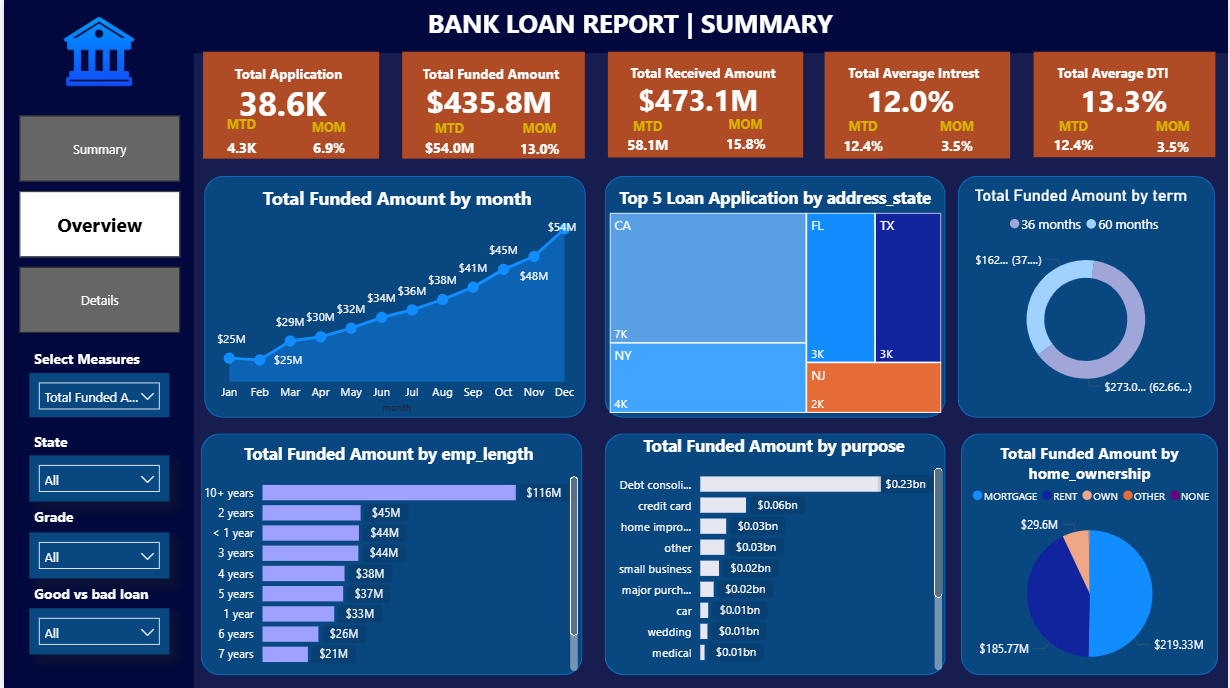

The dashboard page shown, as its layout file describes it:
{"tool":"powerbi","page":{"name":"Overview","canvas":[1280,720],"ordinal":1},"visuals":[{"type":"shape","box":[0,0,1279.8,55.3],"z":0},{"type":"textbox","box":[1095.1,61.1,174.8,29.7],"z":0,"group":"g4"},{"type":"textbox","box":[877,61.2,165.9,29.7],"z":0,"group":"g5"},{"type":"textbox","box":[432.2,61.6,173.1,29.7],"z":0,"group":"g6"},{"type":"textbox","box":[210.9,62,174.3,35.4],"z":0,"group":"g7"},{"type":"textbox","box":[649.2,62,175.7,29.8],"z":0,"group":"g8"},{"type":"shape","box":[0,55.3,198,664.7],"z":1000},{"type":"card","title":"MTD","fields":{"Values":["bank_loan.MTD loan applications"]},"box":[222.3,120.1,52.4,58.1],"z":1000,"group":"g7"},{"type":"card","title":"MTD","fields":{"Values":["bank_loan.MTD avg intrest rate"]},"box":[1086.1,121.9,62.4,49.6],"z":1000,"group":"g4"},{"type":"card","title":"MTD","fields":{"Values":["bank_loan.MTD avg intrest rate"]},"box":[868.1,122,59.5,51],"z":1000,"group":"g5"},{"type":"card","title":"MTD","fields":{"Values":["bank_loan.MTD received amount"]},"box":[641,122.9,62.4,49.6],"z":1000,"group":"g8"},{"type":"card","title":"MTD","fields":{"Values":["bank_loan.MTD funded amount"]},"box":[426.9,123.2,78,51],"z":1000,"group":"g6"},{"type":"group","id":"g1","title":"Group 2","box":[208.3,53.9,184.3,124.4],"z":2000},{"type":"card","title":"MOM","fields":{"Values":["bank_loan.MOM Received Amount"]},"box":[741.6,121.5,66.6,49.6],"z":2000,"group":"g8"},{"type":"card","title":"MOM","fields":{"Values":["bank_loan.MOM AVG Intrest"]},"box":[1190.8,121.9,60.9,52.4],"z":2000,"group":"g4"},{"type":"card","title":"MOM","fields":{"Values":["bank_loan.MOM AVG Intrest"]},"box":[967.3,122,58.1,51],"z":2000,"group":"g5"},{"type":"card","title":"MOM","fields":{"Values":["bank_loan.MOM loan application"]},"box":[314.4,122.9,51,52.4],"z":2000,"group":"g7"},{"type":"card","title":"MOM","fields":{"Values":["bank_loan.MOM Funded Amount"]},"box":[524.9,123.2,70.9,53.9],"z":2000,"group":"g6"},{"type":"shape","box":[208.3,53.9,184.3,112],"z":3000,"group":"g1"},{"type":"shape","box":[416,53.9,191.3,112],"z":3000,"group":"g2"},{"type":"shape","box":[858.2,53.9,194.2,112],"z":3000,"group":"g9"},{"type":"shape","box":[630.7,54.6,204.1,110.6],"z":3000,"group":"g3"},{"type":"shape","box":[1075.7,54.6,190.4,110.6],"z":3000,"group":"g10"},{"type":"shape","box":[208.9,184.1,398.9,252.8],"z":3000},{"type":"group","id":"g2","title":"Group 2","box":[416,53.9,191.3,123.1],"z":4000},{"type":"card","fields":{"Values":["bank_loan.AVG intrest Rate"]},"box":[867.9,87.6,159.5,35.1],"z":4000,"group":"g9"},{"type":"card","fields":{"Values":["bank_loan.Total AVG DTI"]},"box":[1085.6,87.6,168.1,35.1],"z":4000,"group":"g10"},{"type":"card","fields":{"Values":["bank_loan.Total Amount Received"]},"box":[640.9,87.9,167.6,34.6],"z":4000,"group":"g3"},{"type":"card","fields":{"Values":["bank_loan.Total Funded Amount"]},"box":[422.7,88,166.5,35.1],"z":4000,"group":"g2"},{"type":"card","fields":{"Values":["bank_loan.Total Loan Application"]},"box":[213.5,88.1,154.5,38.3],"z":4000,"group":"g1"},{"type":"group","id":"g3","title":"Group 2","box":[630.7,54.6,204.1,118],"z":5000},{"type":"group","id":"g4","title":"Group 1","box":[1086.1,61.1,183.8,113.3],"z":5003,"group":"g10"},{"type":"group","id":"g5","title":"Group 1","box":[868.1,61.2,174.7,111.8],"z":5003,"group":"g9"},{"type":"group","id":"g6","title":"Group 1","box":[426.9,61.6,178.4,115.5],"z":5003,"group":"g2"},{"type":"group","id":"g7","title":"Group 1","box":[210.9,62,174.3,116.2],"z":5003,"group":"g1"},{"type":"group","id":"g8","title":"Group 1","box":[641,62,183.9,110.5],"z":5003,"group":"g3"},{"type":"group","id":"g9","title":"Group 2","box":[858.2,53.9,194.2,119.1],"z":6000},{"type":"group","id":"g10","title":"Group 2","box":[1075.7,54.6,194.2,119.8],"z":7000},{"type":"textbox","box":[26.3,445.7,73.1,30.7],"z":8000},{"type":"textbox","box":[26.3,524.6,73.1,30.7],"z":9000},{"type":"textbox","box":[26.3,604.9,146.1,30.7],"z":10000},{"type":"slicer","fields":{"Values":["bank_loan.address_state"]},"box":[26.3,476.3,146.1,48.2],"z":11000},{"type":"slicer","fields":{"Values":["bank_loan.grade"]},"box":[26.3,556.7,146.1,48.2],"z":12000},{"type":"slicer","fields":{"Values":["bank_loan.purpose"]},"box":[26.3,635.6,146.1,48.2],"z":13000},{"type":"areaChart","fields":{"Y":["bank_loan.Total Funded Amount"],"Category":["date table.month"]},"box":[217.7,194.3,387.2,242.6],"z":14000},{"type":"slicer","fields":{"Values":["Select.Select"]},"box":[26.3,390.1,146.1,46.8],"z":15000},{"type":"textbox","box":[26.3,359.5,131.5,30.7],"z":16000},{"type":"shape","box":[628.3,184.1,356.5,252.8],"z":17000},{"type":"treemap","title":"Top 5 Loan Application by address_state","fields":{"Group":["bank_loan.address_state"],"Values":["bank_loan.Total Loan Application"]},"box":[628.3,194.3,356.5,242.6],"z":18000},{"type":"shape","box":[996.5,184.1,268.9,252.8],"z":19000},{"type":"donutChart","fields":{"Y":["bank_loan.Total Funded Amount"],"Category":["bank_loan.term"]},"box":[1009.7,194.3,242.6,230.9],"z":20000},{"type":"shape","box":[206,453,398.9,252.8],"z":21000},{"type":"clusteredBarChart","fields":{"Y":["bank_loan.Total Funded Amount"],"Category":["bank_loan.emp_length"]},"box":[198.7,461.7,406.2,244],"z":22000},{"type":"shape","box":[628.3,453,356.5,252.8],"z":23000},{"type":"barChart","fields":{"Y":["bank_loan.Total Funded Amount"],"Category":["bank_loan.purpose"]},"box":[623.9,453,360.9,252.8],"z":24000},{"type":"shape","box":[1000.9,453,268.9,252.8],"z":25000},{"type":"pieChart","fields":{"Y":["bank_loan.Total Funded Amount"],"Category":["bank_loan.home_ownership"]},"box":[1000.9,461.7,268.9,252.8],"z":26000},{"type":"textbox","box":[432.5,0,444.2,55.5],"z":27000},{"type":"pageNavigator","box":[15.6,120.5,168.7,228.2],"z":27001},{"type":"image","box":[1.4,0,197,110.6],"z":27002}]}

Visuals, with their boxes in screenshot pixels (x1, y1, x2, y2), scaled from the page's 1280x720 canvas onto the 1230x688 screenshot:
shape: (0, 0, 1229, 53)
textbox: (1052, 58, 1220, 87)
textbox: (843, 58, 1002, 87)
textbox: (415, 59, 582, 87)
textbox: (203, 59, 370, 93)
textbox: (624, 59, 793, 88)
shape: (0, 53, 190, 687)
"MTD" card: (214, 115, 264, 170)
"MTD" card: (1044, 116, 1104, 164)
"MTD" card: (834, 117, 891, 165)
"MTD" card: (616, 117, 676, 165)
"MTD" card: (410, 118, 485, 166)
"Group 2" group: (200, 52, 377, 170)
"MOM" card: (713, 116, 777, 163)
"MOM" card: (1144, 116, 1203, 167)
"MOM" card: (930, 117, 985, 165)
"MOM" card: (302, 117, 351, 168)
"MOM" card: (504, 118, 573, 169)
shape: (200, 52, 377, 159)
shape: (400, 52, 584, 159)
shape: (825, 52, 1011, 159)
shape: (606, 52, 802, 158)
shape: (1034, 52, 1217, 158)
shape: (201, 176, 584, 417)
"Group 2" group: (400, 52, 584, 169)
card - bank_loan.AVG intrest Rate: (834, 84, 987, 117)
card - bank_loan.Total AVG DTI: (1043, 84, 1205, 117)
card - bank_loan.Total Amount Received: (616, 84, 777, 117)
card - bank_loan.Total Funded Amount: (406, 84, 566, 118)
card - bank_loan.Total Loan Application: (205, 84, 354, 121)
"Group 2" group: (606, 52, 802, 165)
"Group 1" group: (1044, 58, 1220, 167)
"Group 1" group: (834, 58, 1002, 165)
"Group 1" group: (410, 59, 582, 169)
"Group 1" group: (203, 59, 370, 170)
"Group 1" group: (616, 59, 793, 165)
"Group 2" group: (825, 52, 1011, 165)
"Group 2" group: (1034, 52, 1220, 167)
textbox: (25, 426, 96, 455)
textbox: (25, 501, 96, 531)
textbox: (25, 578, 166, 607)
slicer - bank_loan.address_state: (25, 455, 166, 501)
slicer - bank_loan.grade: (25, 532, 166, 578)
slicer - bank_loan.purpose: (25, 607, 166, 653)
areaChart - bank_loan.Total Funded Amount x date table.month: (209, 186, 581, 417)
slicer - Select.Select: (25, 373, 166, 417)
textbox: (25, 344, 152, 373)
shape: (604, 176, 946, 417)
"Top 5 Loan Application by address_state" treemap: (604, 186, 946, 417)
shape: (958, 176, 1216, 417)
donutChart - bank_loan.Total Funded Amount x bank_loan.term: (970, 186, 1203, 406)
shape: (198, 433, 581, 674)
clusteredBarChart - bank_loan.Total Funded Amount x bank_loan.emp_length: (191, 441, 581, 674)
shape: (604, 433, 946, 674)
barChart - bank_loan.Total Funded Amount x bank_loan.purpose: (600, 433, 946, 674)
shape: (962, 433, 1220, 674)
pieChart - bank_loan.Total Funded Amount x bank_loan.home_ownership: (962, 441, 1220, 683)
textbox: (416, 0, 842, 53)
pageNavigator: (15, 115, 177, 333)
image: (1, 0, 191, 106)
